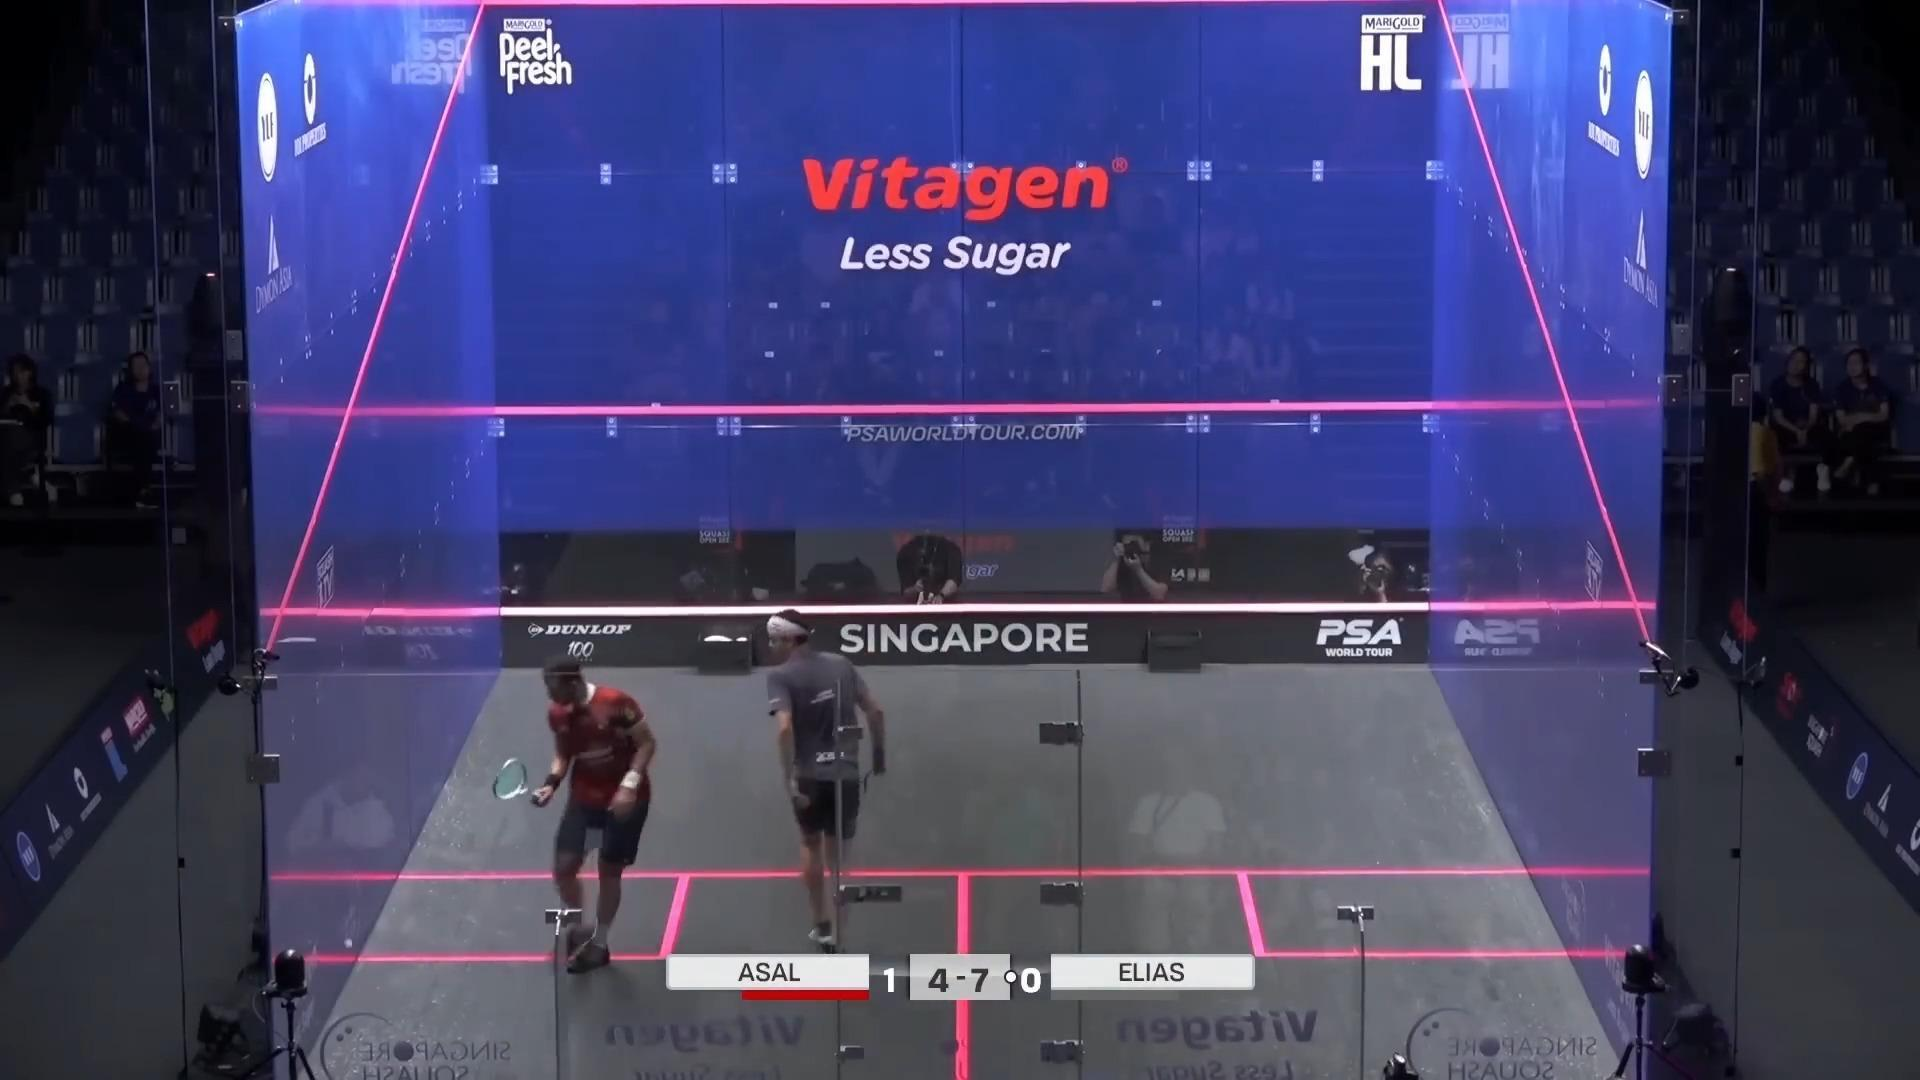Squash-Ball: (334, 918, 365, 968)
